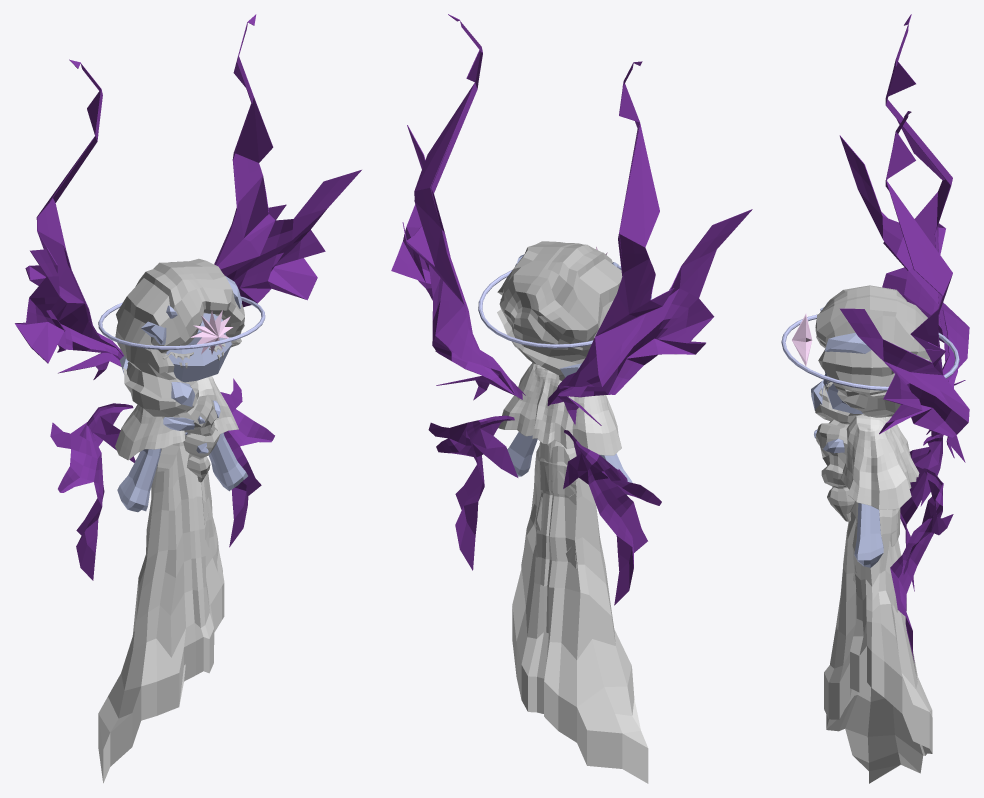
The model's file is spika.fbx.
3 views of the same model, side by side, from view 1: azimuth 30°, elevation 25°; view 2: azimuth 150°, elevation 25°; view 3: azimuth 270°, elevation 25° (orthographic). The views are drawn at different scales.
Parts seen in each view (by area): view 1: dress 2, wing- 1, hair, wing- 2, dress 1, arm, wing +, head, head- ring, head- star; view 2: dress 2, wing- 1, hair, wing- 2, dress 1, wing +, arm, head- ring; view 3: dress 2, wing- 1, hair, dress 1, wing- 2, arm, wing +, head- ring, hair parts.001, head- star, head.
Part boxes in pixels (left/top/right/bottom): dress 2: left=98, top=442, right=224, bottom=783; wing- 1: left=15, top=14, right=361, bottom=379; hair: left=115, top=258, right=244, bottom=482; wing- 2: left=50, top=378, right=274, bottom=580; dress 1: left=115, top=376, right=238, bottom=460; arm: left=117, top=433, right=247, bottom=512; wing +: left=53, top=22, right=253, bottom=356; head: left=166, top=313, right=232, bottom=382; head- ring: left=98, top=296, right=265, bottom=349; head- star: left=190, top=310, right=232, bottom=354; dress 2: left=512, top=440, right=648, bottom=783; wing- 1: left=391, top=14, right=752, bottom=425; hair: left=497, top=241, right=622, bottom=380; wing- 2: left=428, top=415, right=661, bottom=605; dress 1: left=498, top=363, right=621, bottom=455; wing +: left=431, top=21, right=639, bottom=395; arm: left=507, top=432, right=632, bottom=494; head- ring: left=478, top=265, right=651, bottom=348; dress 2: left=824, top=501, right=932, bottom=783; wing- 1: left=839, top=14, right=969, bottom=462; hair: left=815, top=285, right=931, bottom=521; dress 1: left=840, top=415, right=919, bottom=509; wing- 2: left=890, top=434, right=953, bottom=662; arm: left=854, top=503, right=883, bottom=567; wing +: left=885, top=24, right=952, bottom=434; head- ring: left=781, top=314, right=959, bottom=390; hair parts.001: left=825, top=332, right=871, bottom=353; head- star: left=792, top=313, right=812, bottom=366; head: left=823, top=372, right=862, bottom=413.
Bounding box in the file's own units: 2.82 × 5.77 × 1.29.
